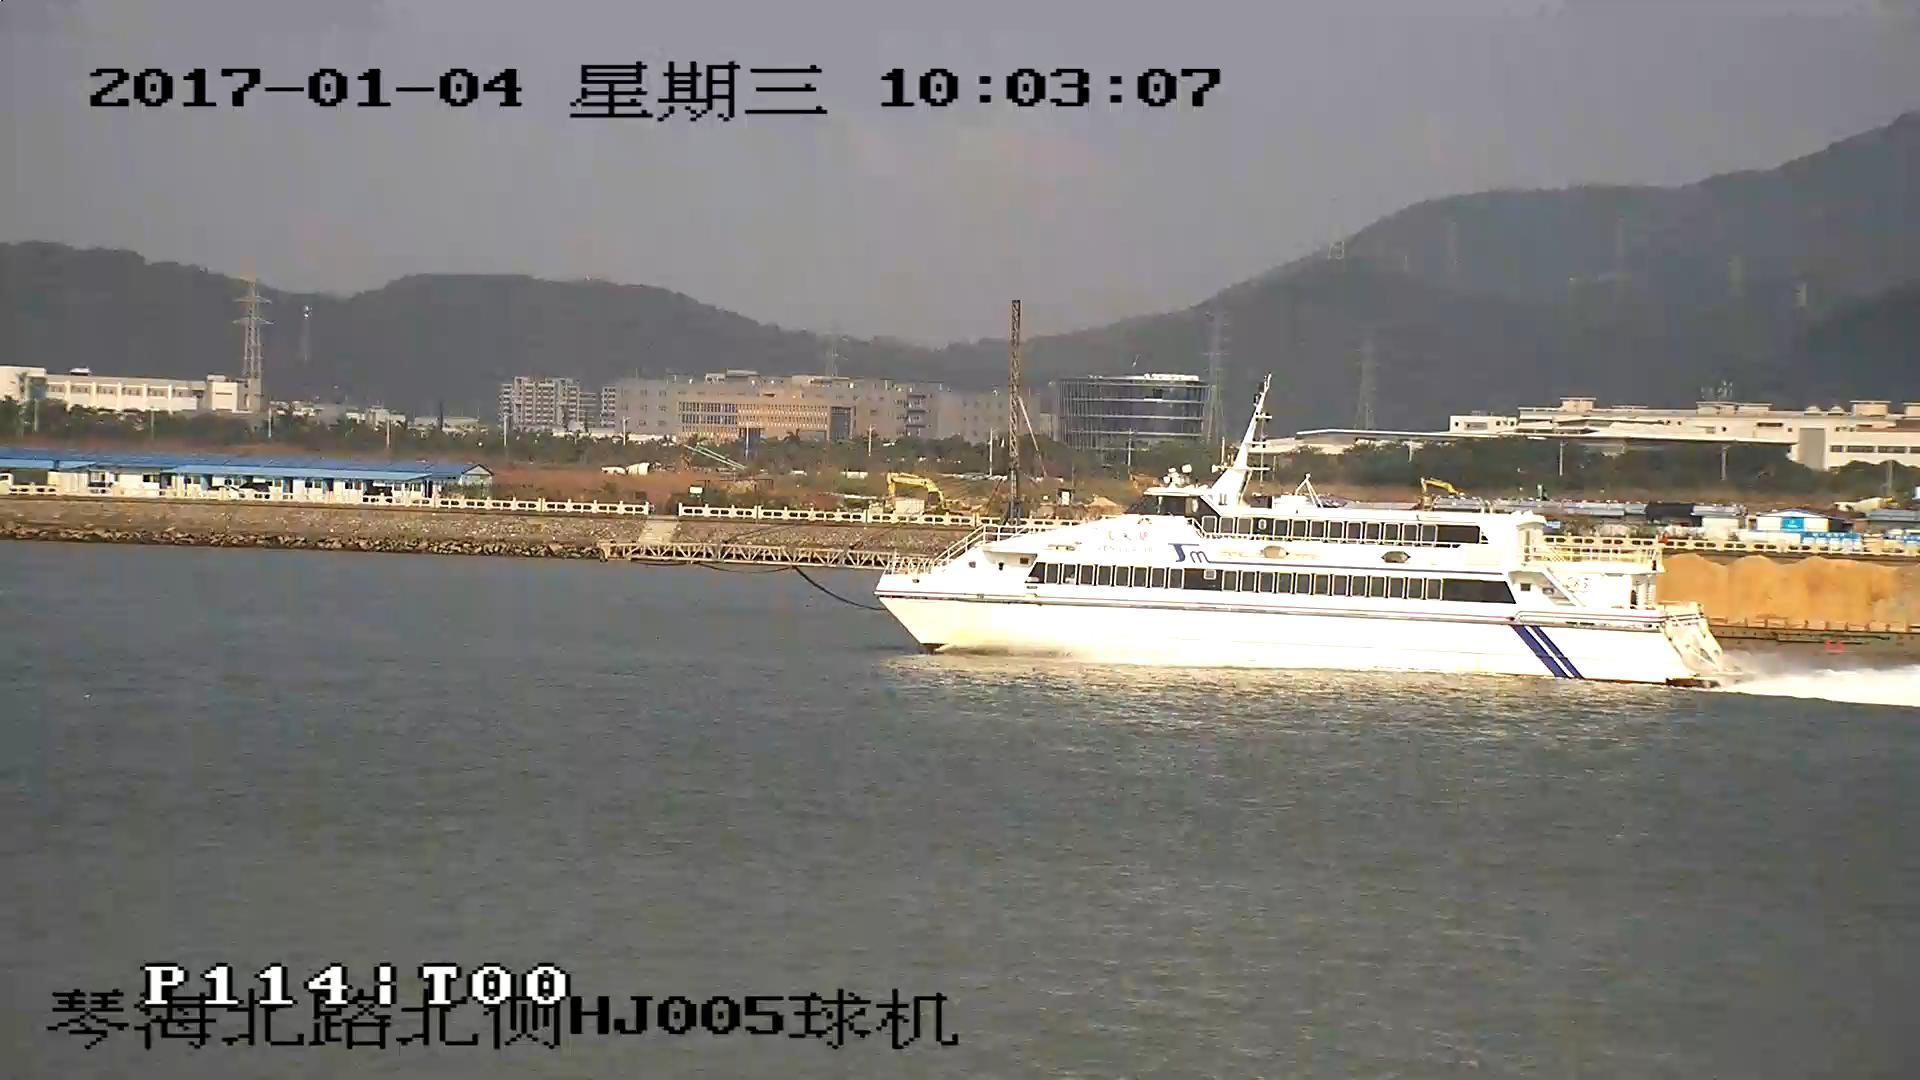Ship: (880, 369, 1737, 683), (1679, 555, 1920, 649)
